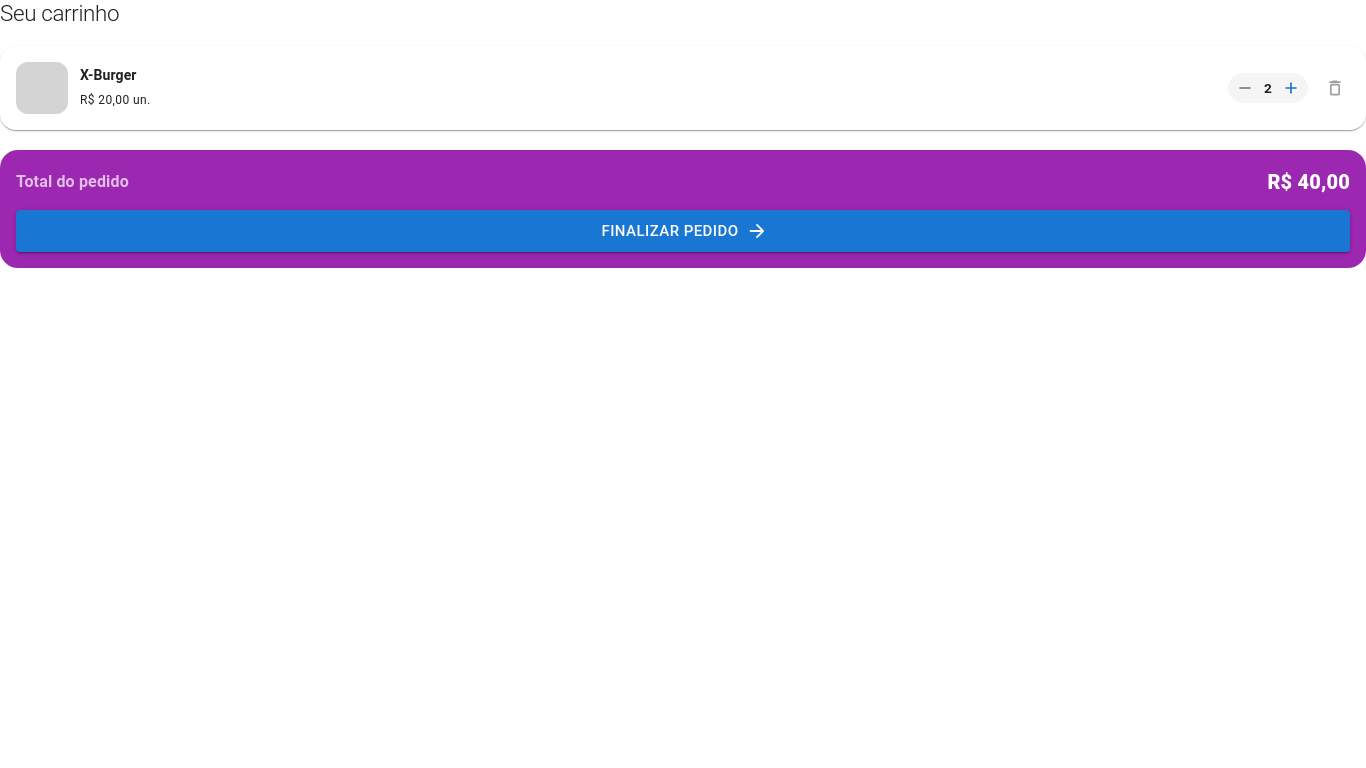
it: CartPage › finalizar pedido sem estar logado abre o diálogo de login
Click the button "Finalizar Pedido".
click(683, 231)  # box [16,210,1350,252]
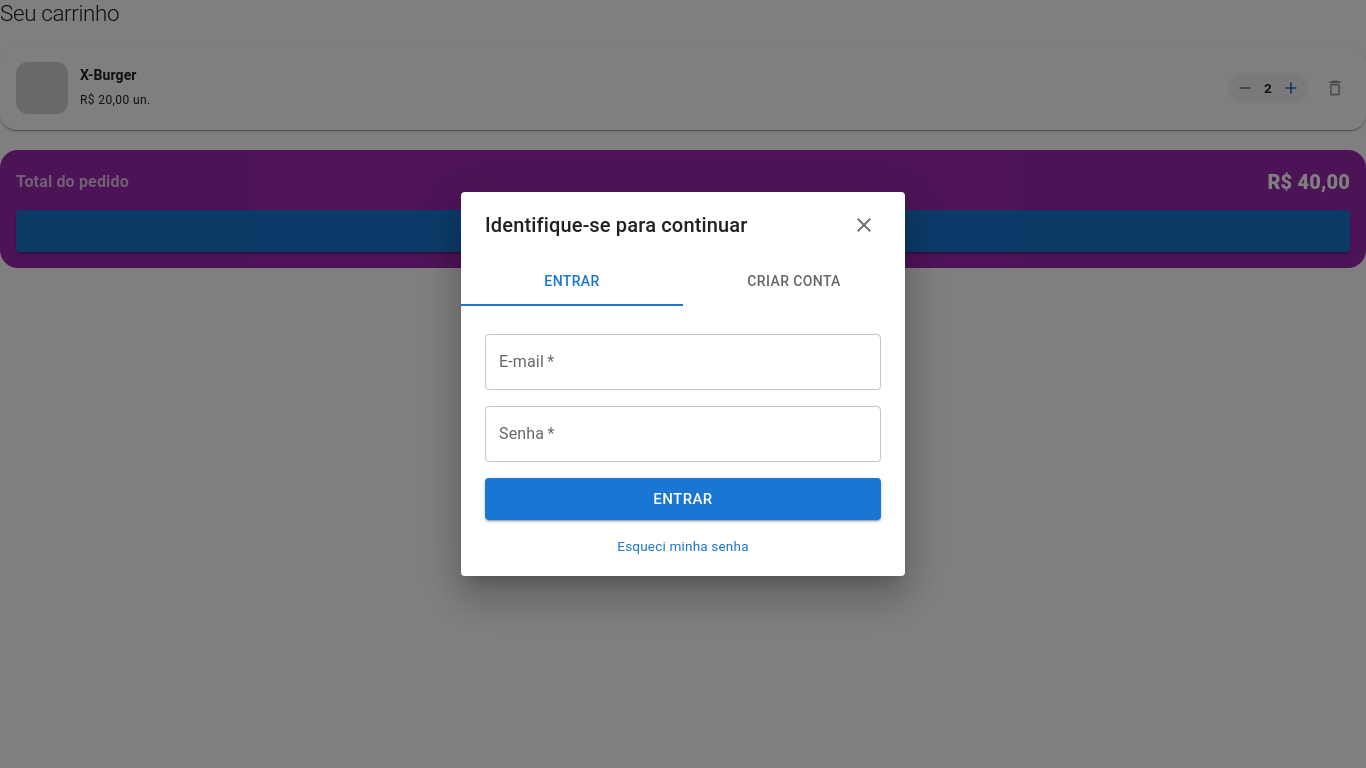
Expected: the heading "Identifique-se para continuar" is shown, [485,208,881,242]
